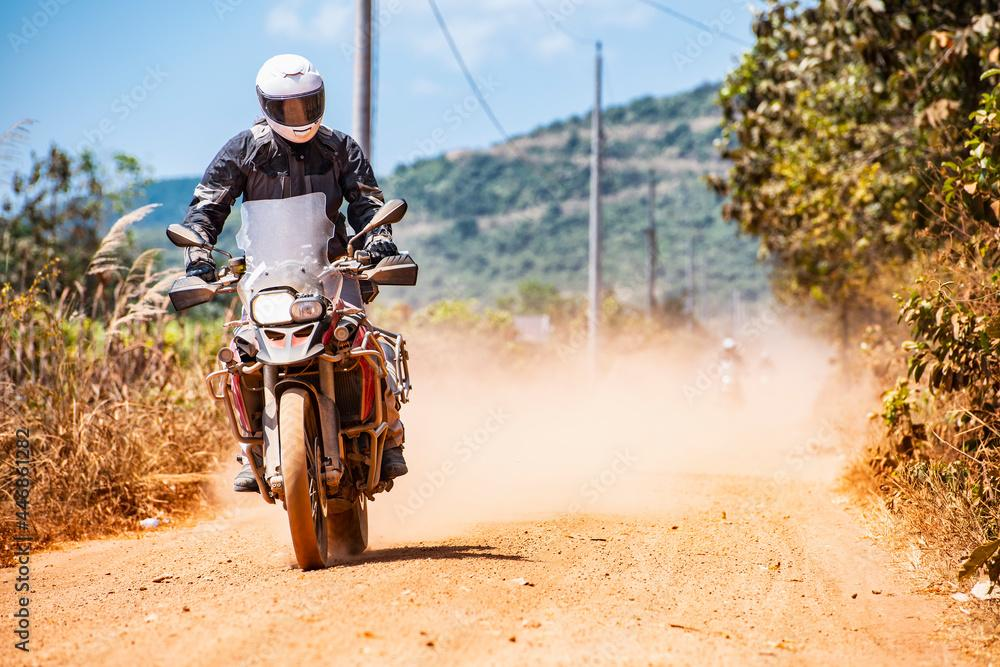helmet: (255, 53, 326, 147)
